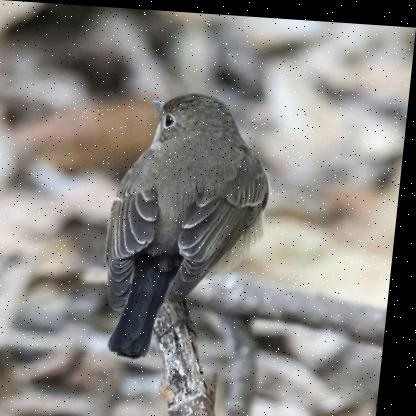Burung: (94, 80, 295, 368)
